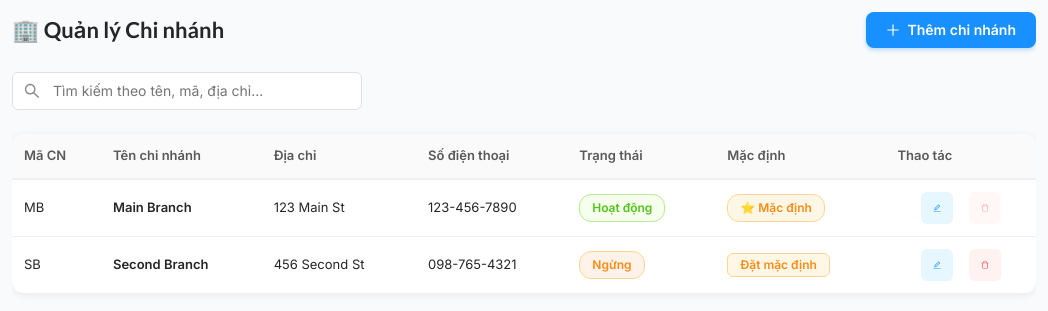
BranchPage Component › filters branches based on search term
The image size is (1048, 311).
Step 1. Type "Main" into the field with placeholder "Tìm kiếm theo tên, mã, địa chỉ..." → [187, 91], box [12,72,362,110]
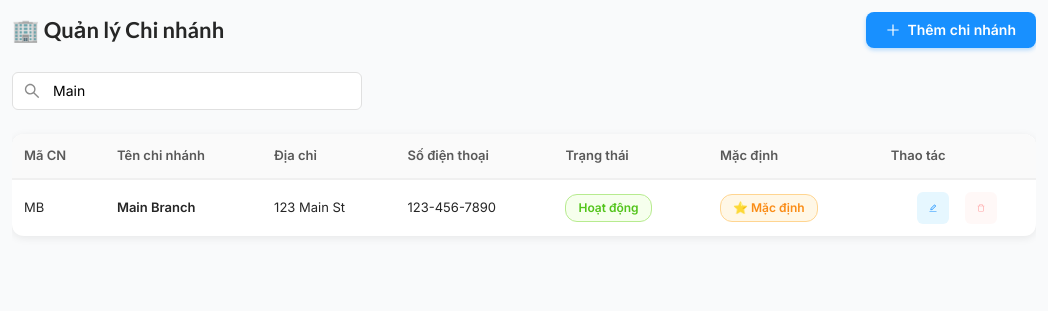
Expected: the text "Main Branch" is shown, [105,179,262,236]
Result: the text "Second Branch" is gone
